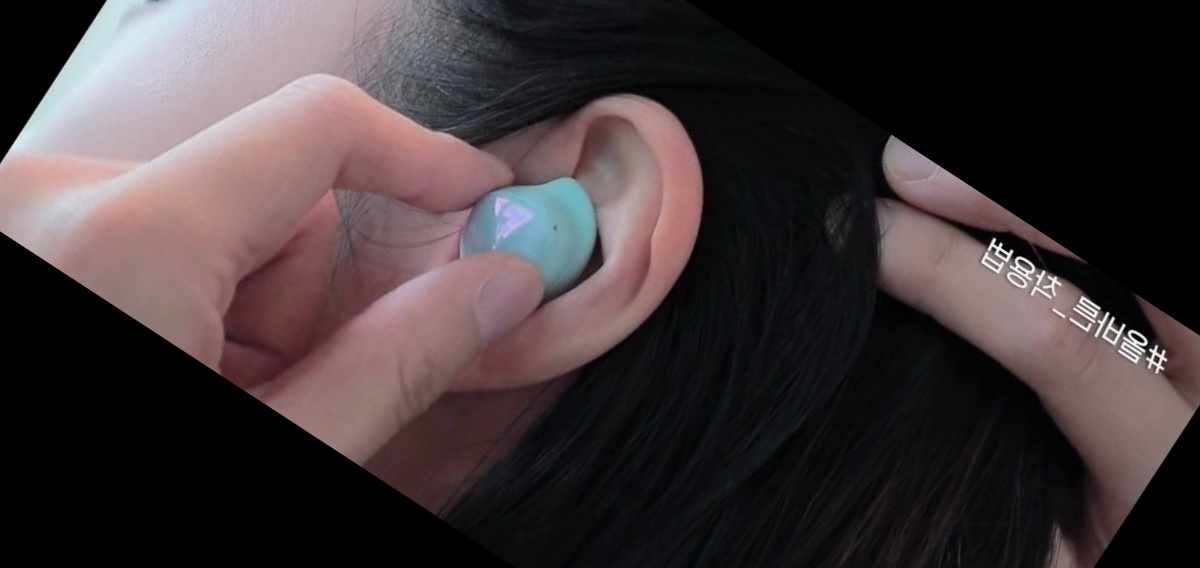earphone: (347, 33, 751, 475)
